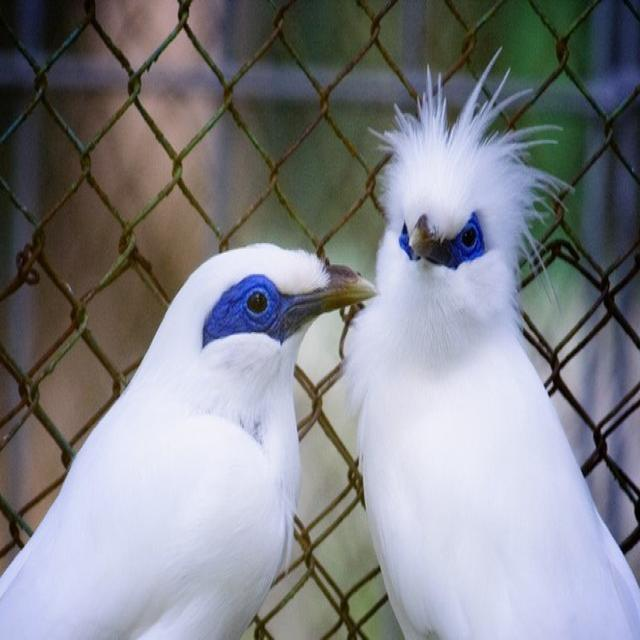Jalak Bali: (333, 36, 640, 638), (6, 215, 380, 640)
